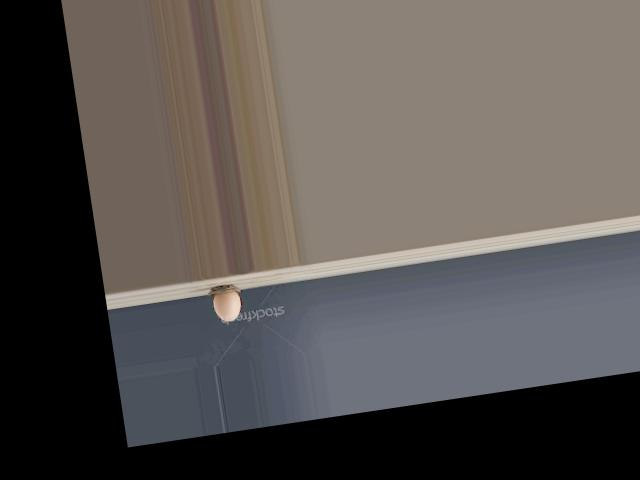egg: (211, 289, 242, 323)
